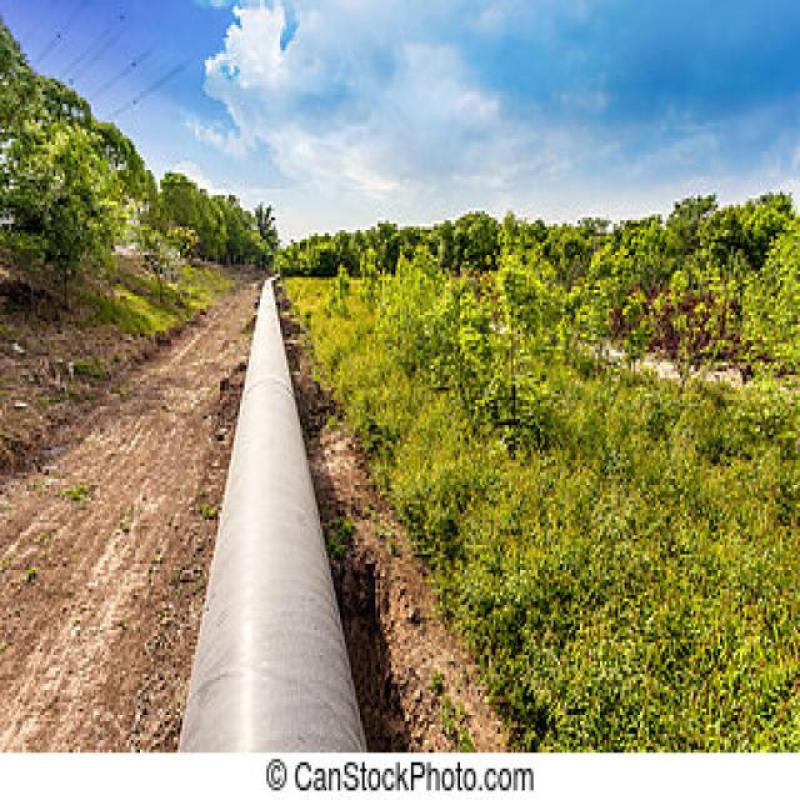Fracture: (219, 229, 306, 431)
Healthy: (135, 565, 398, 725)
